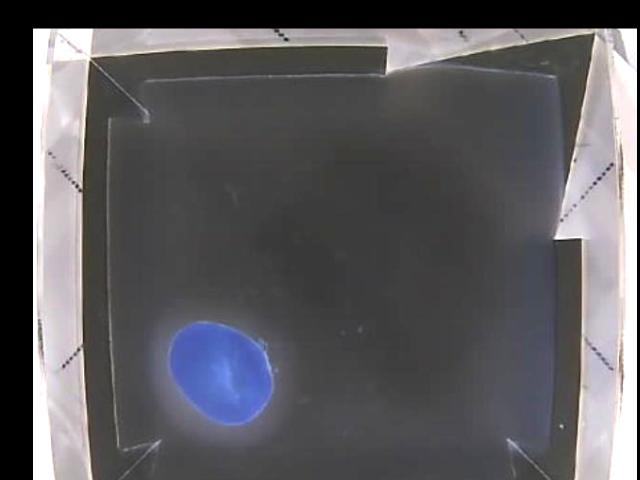Potato: (168, 320, 273, 422)
